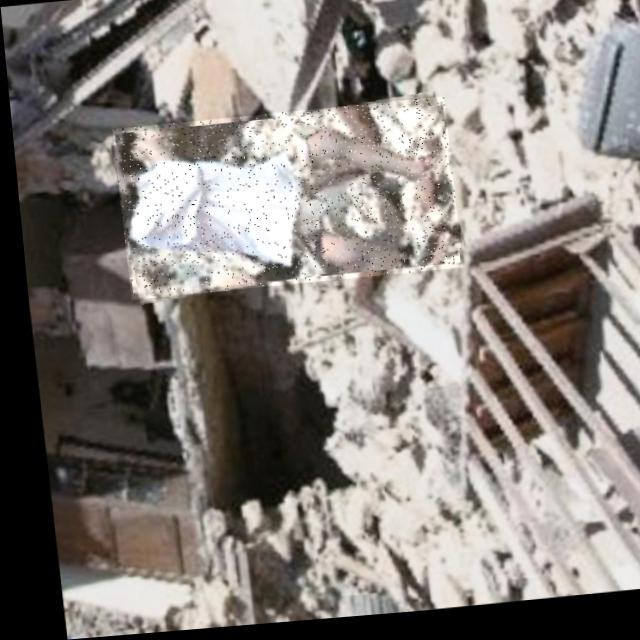Person in Rubble: (108, 102, 457, 301)
